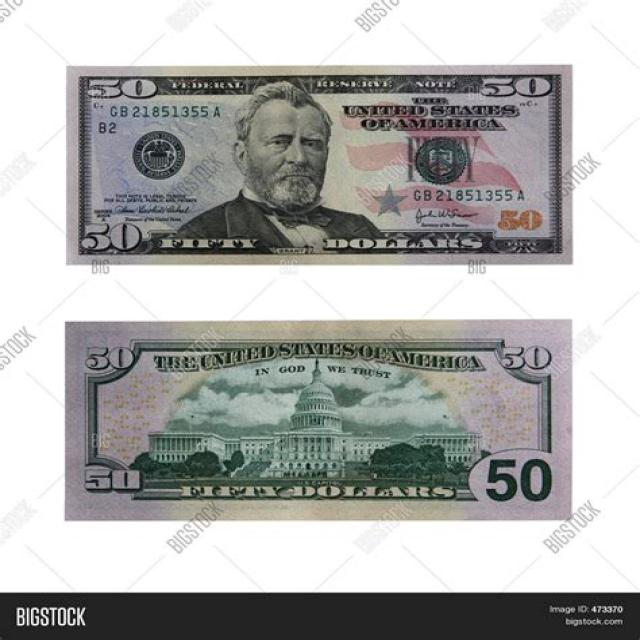Fifty: (64, 318, 574, 523), (65, 66, 576, 266)
